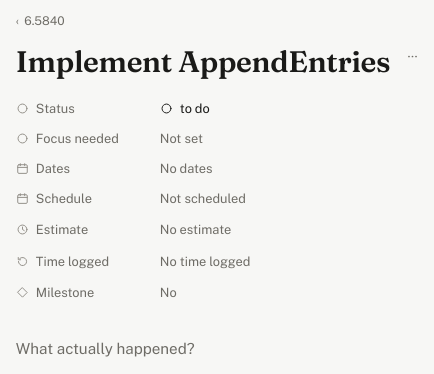
Test case: logging actual time from the task inspector › accumulates a second sitting rather than replacing the first
Step 1. Click the button named "Log time on \"Implement AppendEntries\"" → (205, 262), box x1=160 y1=250 x2=250 y2=274
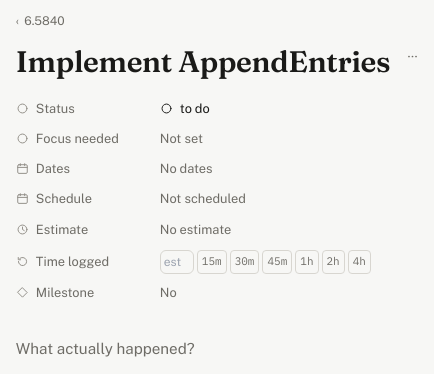
Step 2. Click the button named "Log 30m on \"Implement AppendEntries\"" → (245, 262), box x1=230 y1=250 x2=260 y2=274
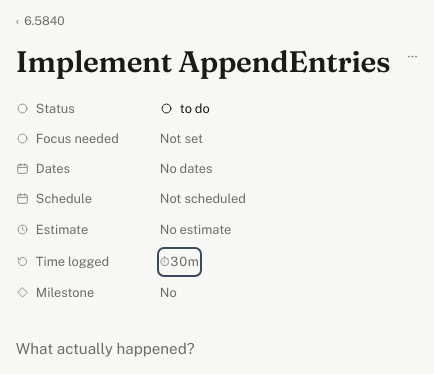
Step 3. Click the button named "Logged 30m on \"Implement AppendEntries\". Log more" → (179, 262), box x1=160 y1=250 x2=199 y2=274
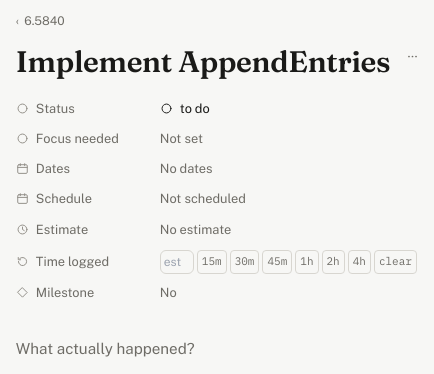
Step 4. Click the button named "Log 15m on \"Implement AppendEntries\"" → (212, 262), box x1=197 y1=250 x2=227 y2=274
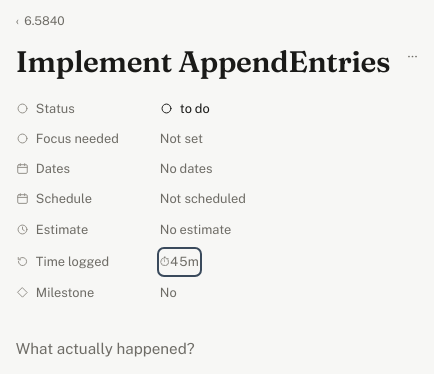
Check: the button named "Logged 45m on \"Implement AppendEntries\". Log more" is shown, box x1=160 y1=250 x2=199 y2=274
